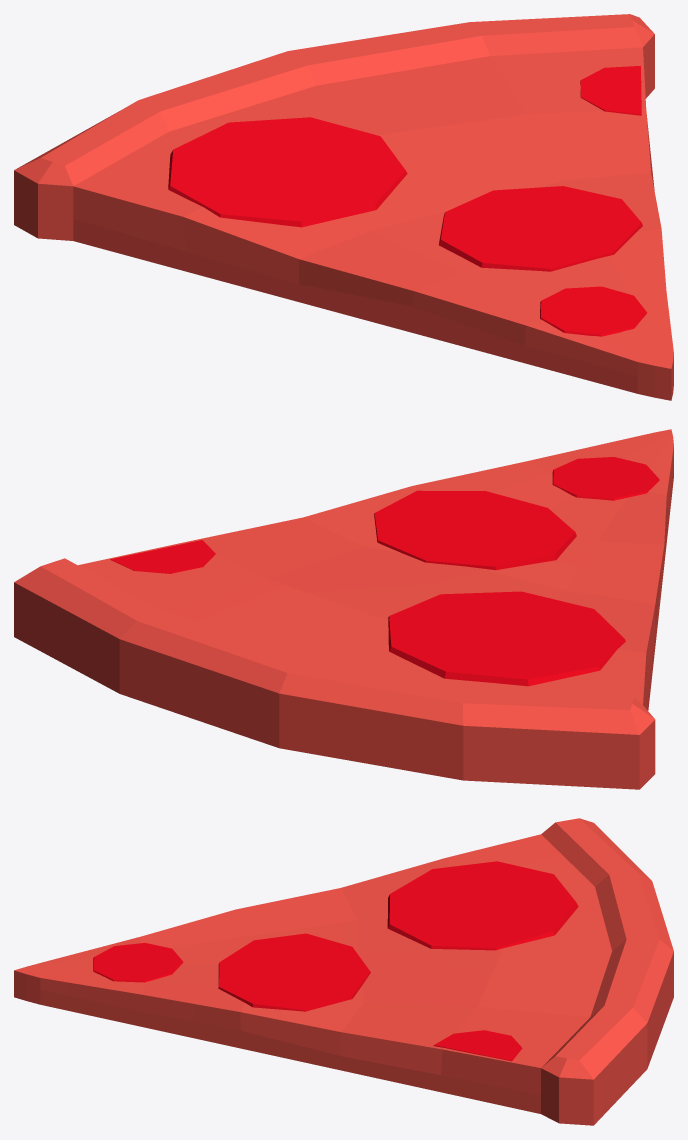
File: RedSlice.fbx
The picture shows the model from 3 angles, top to bottom: view 1: azimuth 30°, elevation 25°; view 2: azimuth 150°, elevation 25°; view 3: azimuth 270°, elevation 25°; orthographic projection. The views are drawn at different scales.
Visible parts, largest first — view 1: Pizza_Slice; view 2: Pizza_Slice; view 3: Pizza_Slice.
Boxes of the visible parts, x1,y1,x2,y2 form: Pizza_Slice: [14, 14, 673, 400]; Pizza_Slice: [14, 429, 673, 789]; Pizza_Slice: [14, 818, 673, 1125].
Size of the model in its own units: 107 by 11.28 by 116.
